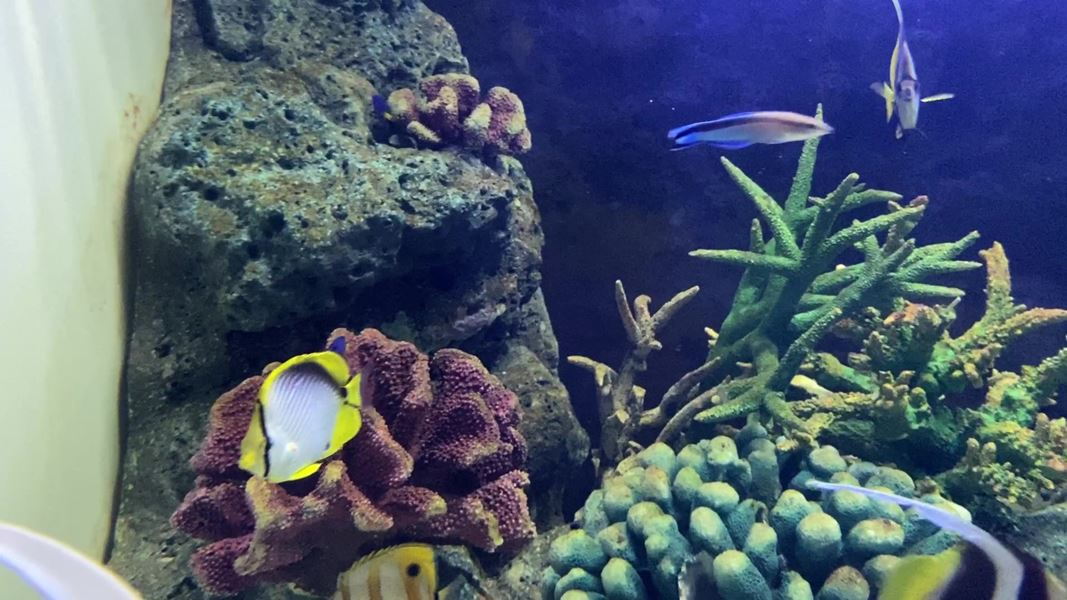Bluesteak cleaner wrasse: (660, 99, 843, 165)
